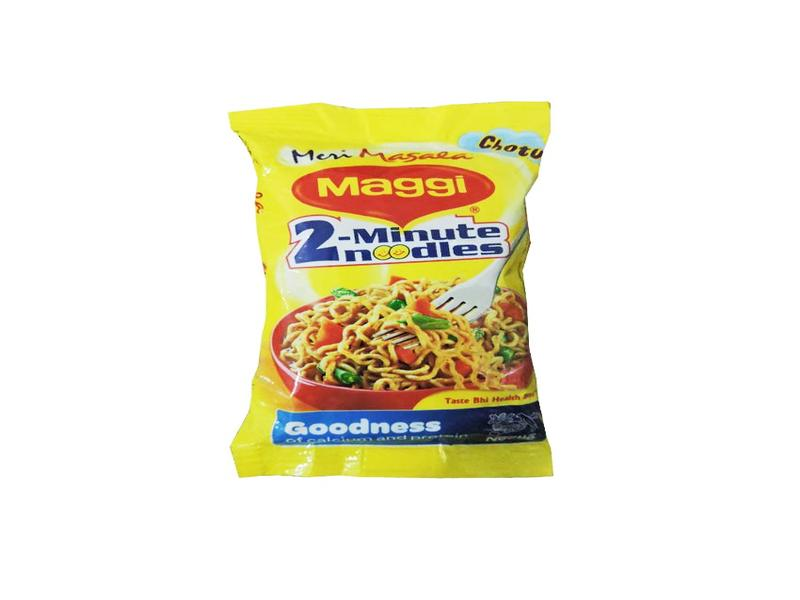maggi-small: (227, 101, 559, 476)
